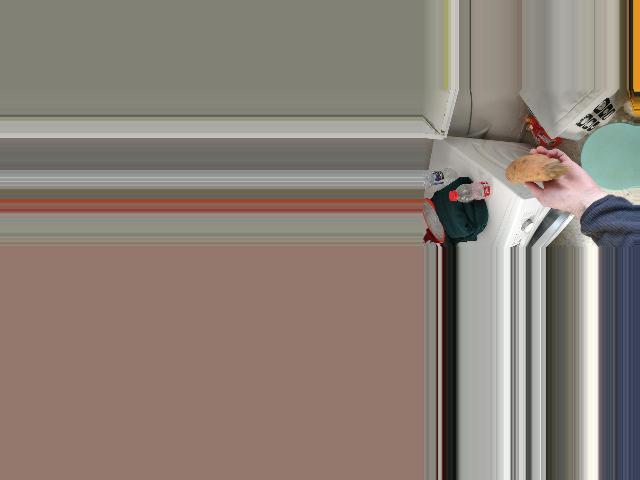sweet_potato: (491, 156, 559, 182)
